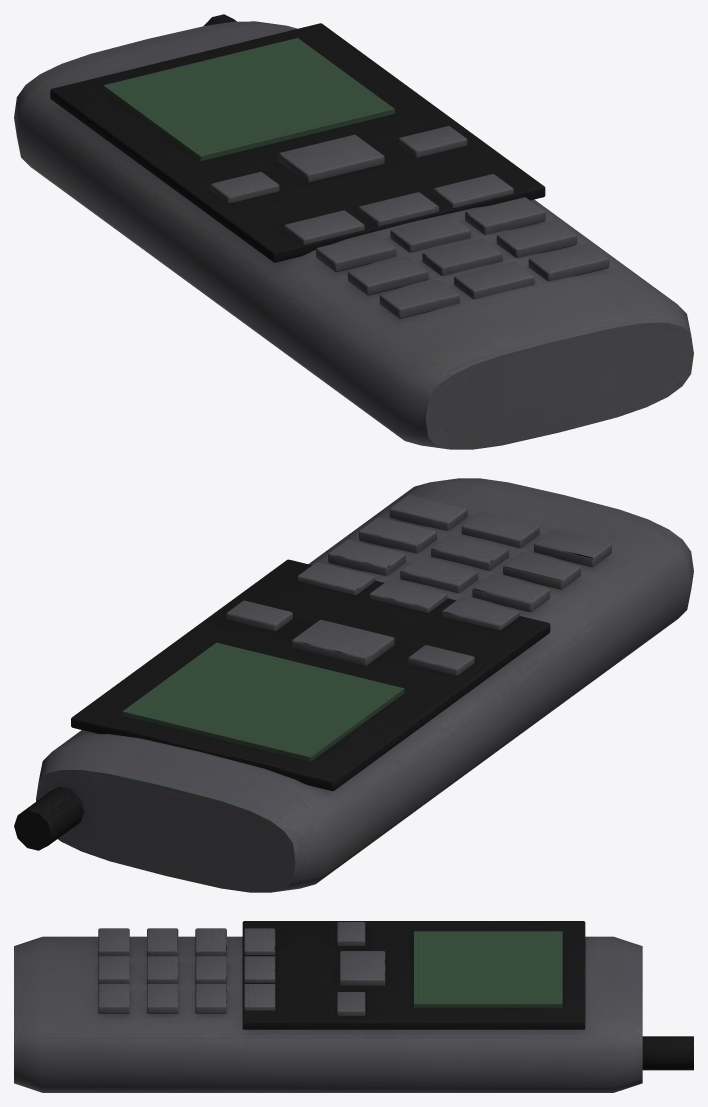
Rendered from ied_phone.glb.
The picture shows the model from 3 angles, top to bottom: view 1: azimuth 30°, elevation 25°; view 2: azimuth 150°, elevation 25°; view 3: azimuth 270°, elevation 25°; orthographic projection. The views are drawn at different scales.
Visible parts, largest first — view 1: ied_phone_body; view 2: ied_phone_body; view 3: ied_phone_body.
Part boxes in pixels (x1,y1,x2,y2): ied_phone_body: (14,14,693,449); ied_phone_body: (14,478,693,892); ied_phone_body: (14,921,693,1092).
Size of the model in its own units: 0.046 by 0.0176 by 0.119.
Materials: 1 (1 with a texture image).
